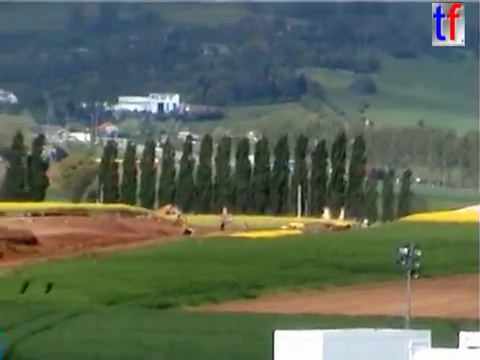excavator: (141, 202, 196, 241), (289, 204, 335, 236), (212, 204, 245, 241), (324, 204, 359, 234)
